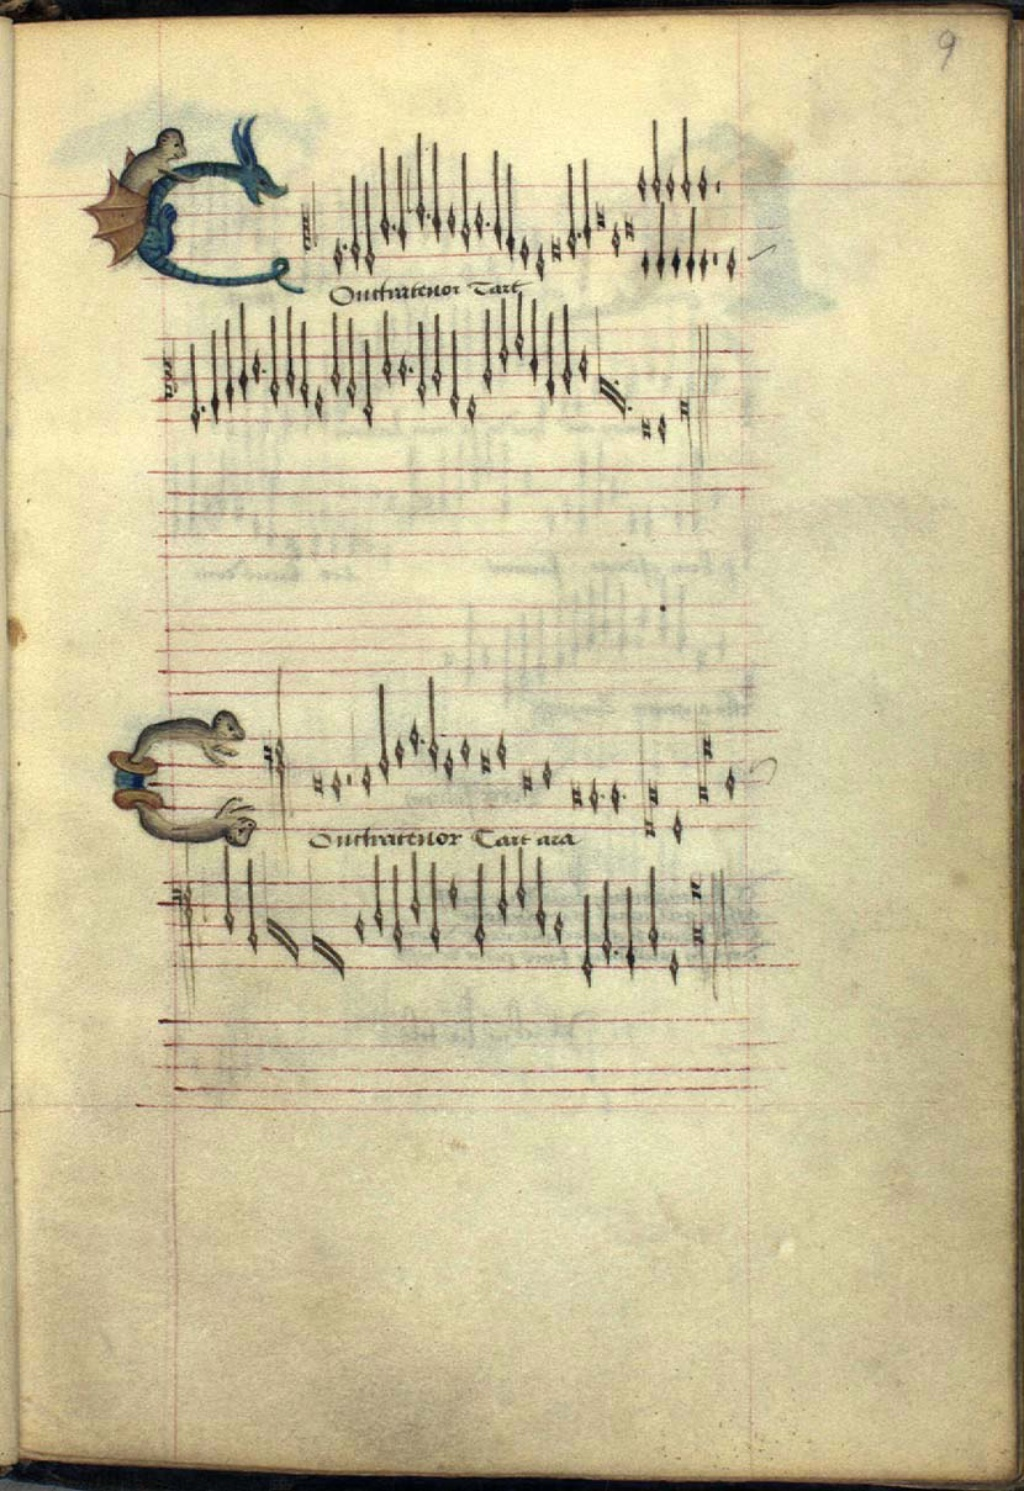barline: (686, 303, 719, 452)
breve_12: (635, 417, 656, 441)
c clef_7: (159, 349, 174, 410)
flat_8: (170, 338, 184, 400)
longa_10: (674, 390, 693, 452)
minim_10: (357, 313, 377, 431)
minim_11: (185, 343, 203, 436)
minim_4: (512, 286, 527, 364)
minim_5: (494, 296, 513, 374)
minim_6: (375, 307, 396, 390)
minim_7: (324, 307, 345, 395), (477, 305, 497, 397), (557, 300, 575, 400), (428, 308, 446, 397), (281, 307, 298, 397)
minim_8: (266, 313, 285, 416), (342, 314, 361, 408), (295, 320, 313, 414), (413, 322, 429, 408)
minim_9: (446, 329, 466, 421)
o1semibreve_8: (592, 303, 609, 421)
o2semibreve_10: (609, 303, 626, 421)
point: (620, 397, 637, 419), (197, 400, 210, 420), (404, 359, 417, 380), (609, 373, 623, 389), (258, 361, 270, 380)
semibreve_10: (463, 389, 483, 431)
semibreve_12: (655, 409, 672, 449)
semibreve_6: (575, 343, 592, 386), (248, 347, 263, 387), (396, 348, 409, 387)
semibreve_9: (310, 385, 328, 426)
semiminim_6: (527, 296, 543, 393)
semiminim_7: (234, 303, 251, 414)
semiminim_8: (541, 308, 558, 410), (221, 316, 237, 416)
semiminim_9: (206, 327, 224, 428)
